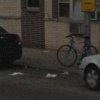Bicycle: (47, 19, 97, 69)
